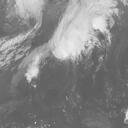cyclone: (50, 28, 100, 63)
